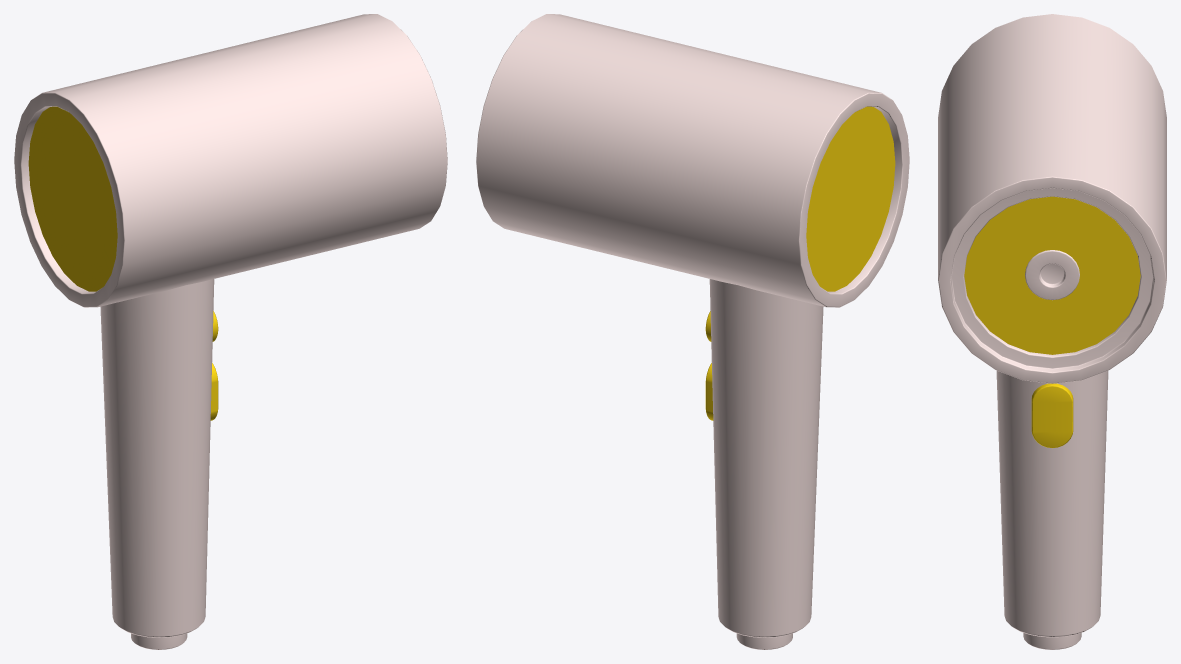
The model's file is Public_15_Hairdryer_1.glb.
3 views of the same model, side by side, from view 1: azimuth 30°, elevation 25°; view 2: azimuth 150°, elevation 25°; view 3: azimuth 270°, elevation 25° (orthographic). The views are drawn at different scales.
Visible parts, largest first — view 1: Public_15_Hairdryer_1; view 2: Public_15_Hairdryer_1; view 3: Public_15_Hairdryer_1.
Boxes of the visible parts, x1,y1,x2,y2 form: Public_15_Hairdryer_1: (14,14,447,649); Public_15_Hairdryer_1: (476,14,909,649); Public_15_Hairdryer_1: (938,14,1166,649).
Bounding box in the file's own units: 1.45 × 2.39 × 0.8569.
Materials: 1 (1 with a texture image).
